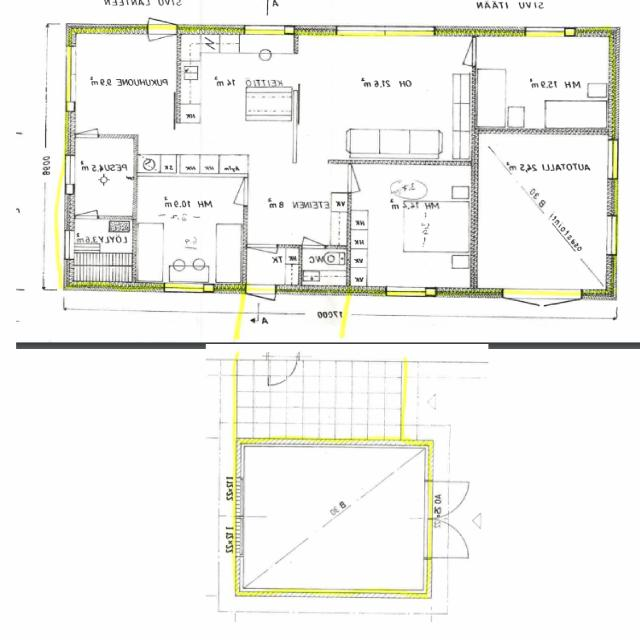door: (424, 385, 474, 425), (424, 425, 474, 464), (542, 286, 582, 334), (503, 286, 542, 334), (247, 286, 277, 324), (346, 320, 386, 347), (440, 37, 478, 65), (148, 24, 175, 61), (148, 0, 175, 34), (346, 165, 379, 192), (214, 178, 247, 205), (249, 245, 277, 275), (302, 223, 325, 248), (76, 193, 98, 218), (77, 113, 98, 138)
